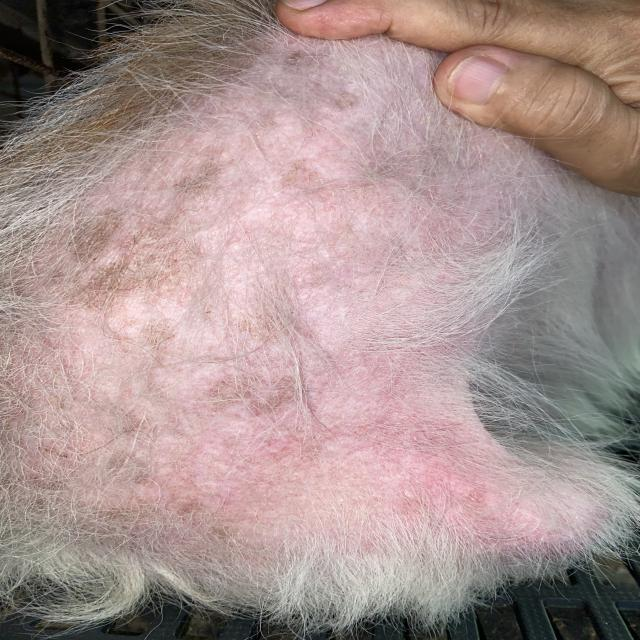demodicosis: (94, 363, 556, 598), (81, 79, 450, 353)
